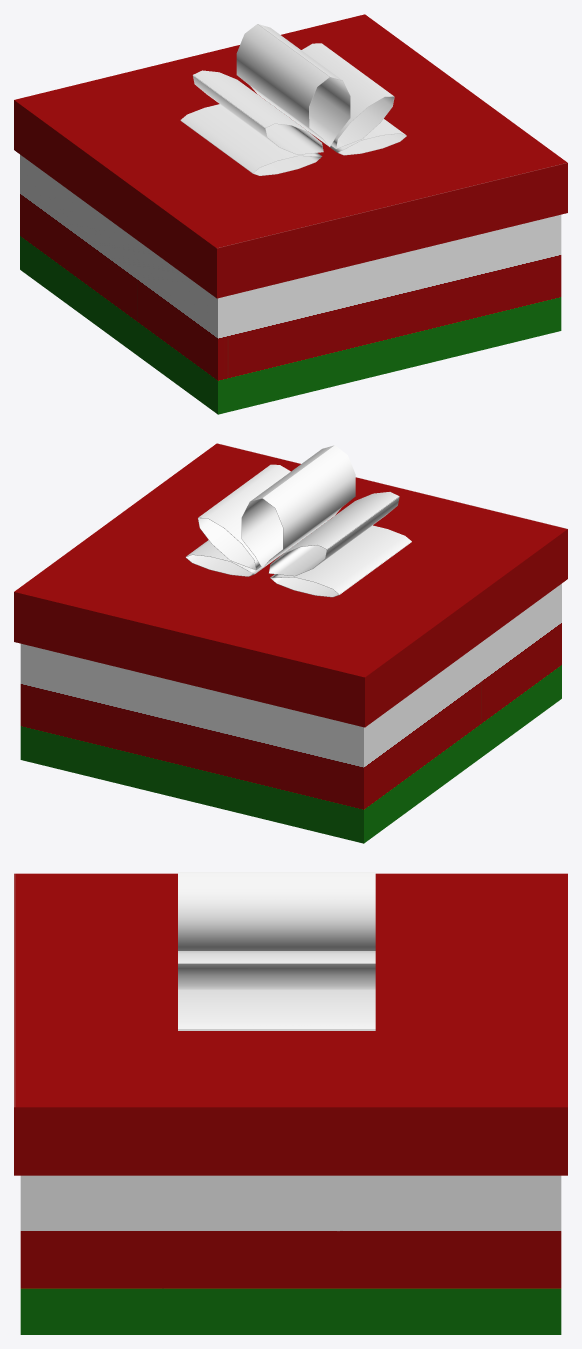
The model's file is present_skinny_striped_ver1.fbx.
3 views of the same model, one above another, from view 1: azimuth 30°, elevation 25°; view 2: azimuth 150°, elevation 25°; view 3: azimuth 270°, elevation 25° (orthographic). The views are drawn at different scales.
Visible parts, largest first — view 1: Top, Box; view 2: Top, Box; view 3: Top, Box.
Boxes of the visible parts, x1,y1,x2,y2 form: Top: [14, 14, 567, 298]; Box: [20, 154, 561, 414]; Top: [14, 443, 567, 727]; Box: [20, 583, 561, 843]; Top: [14, 872, 567, 1175]; Box: [20, 1175, 561, 1334].
Size of the model in its own units: 16.76 by 11.6 by 16.78.
